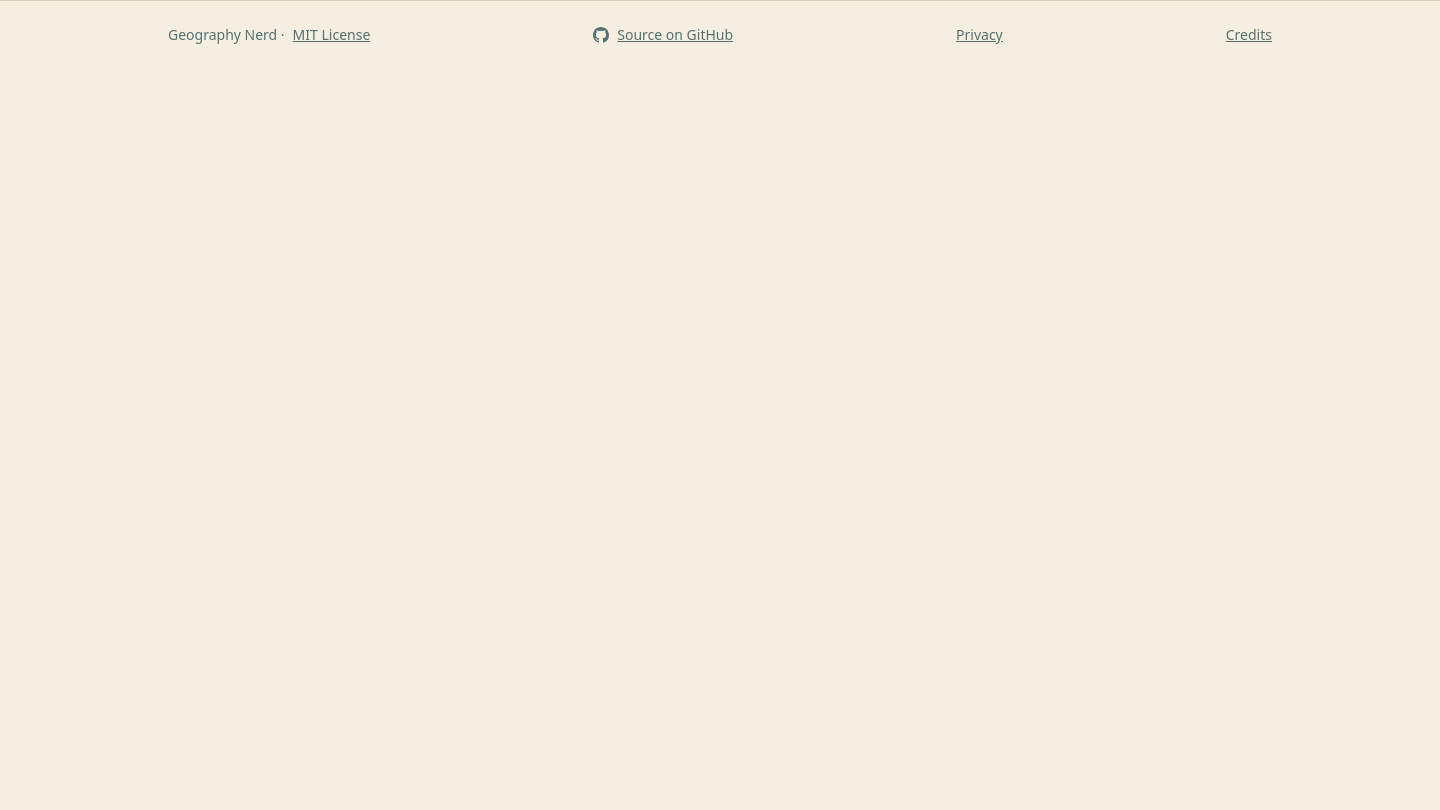
Test: AboutModal › opens when the Credits button is clicked and lists each attribution
The image size is (1440, 810).
Click the button "Credits" at (1249, 35), box [1226,13,1272,57]
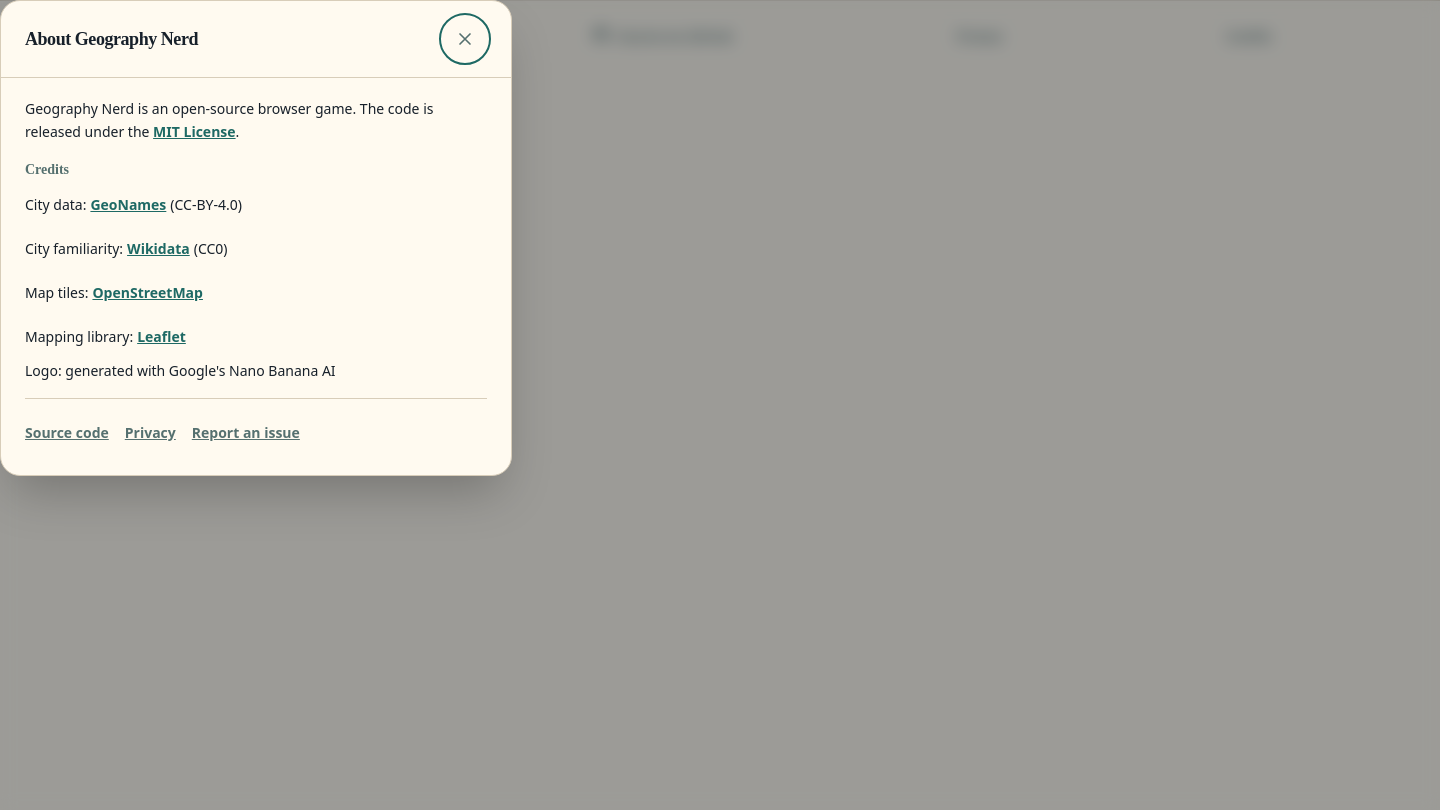
expect the heading "About Geography Nerd" is shown: met, box [25,25,198,53]
expect the link "GeoNames" is shown: met, box [90,195,166,214]
expect the list item "City familiarity: Wikidata (CC0)" is shown: met, box [25,239,228,258]
